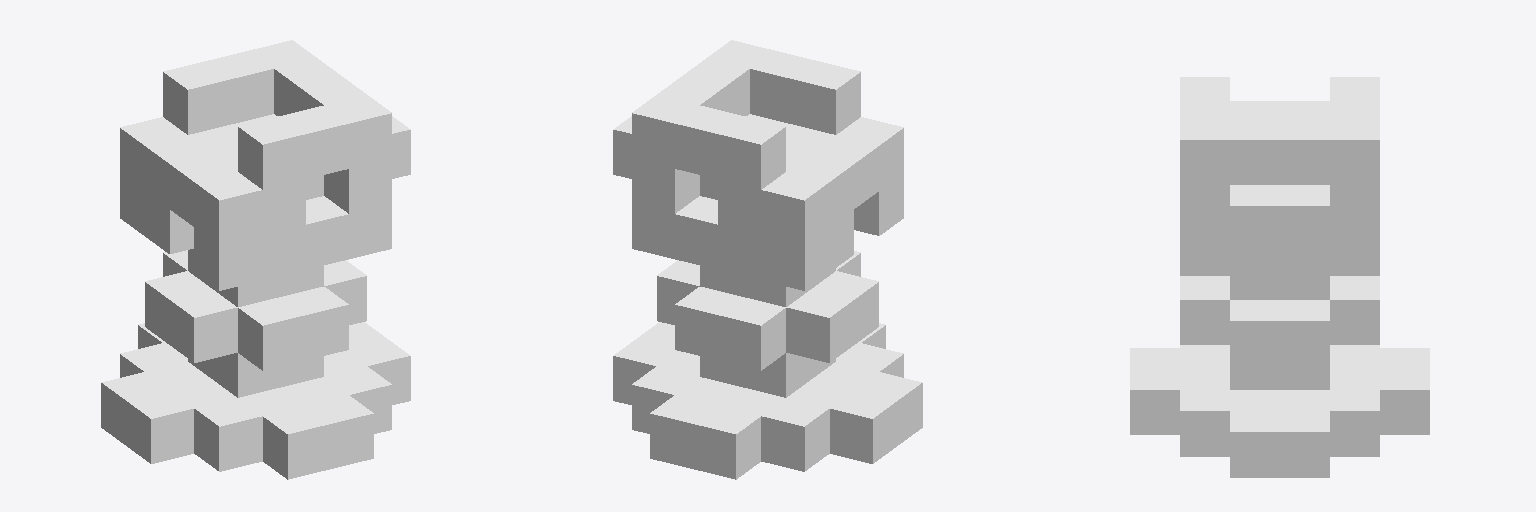
File: Turret.obj
3 renders of one model, left to right at view 1: azimuth 30°, elevation 25°; view 2: azimuth 150°, elevation 25°; view 3: azimuth 270°, elevation 25°, orthographic.
Visible parts, largest first — view 1: object 1; view 2: object 1; view 3: object 1.
Part boxes in pixels (x1,y1,x2,y2): object 1: (101,40,410,479); object 1: (613,40,922,479); object 1: (1130,77,1429,477).
Size of the model in its own units: 0.6 by 0.7 by 0.6.